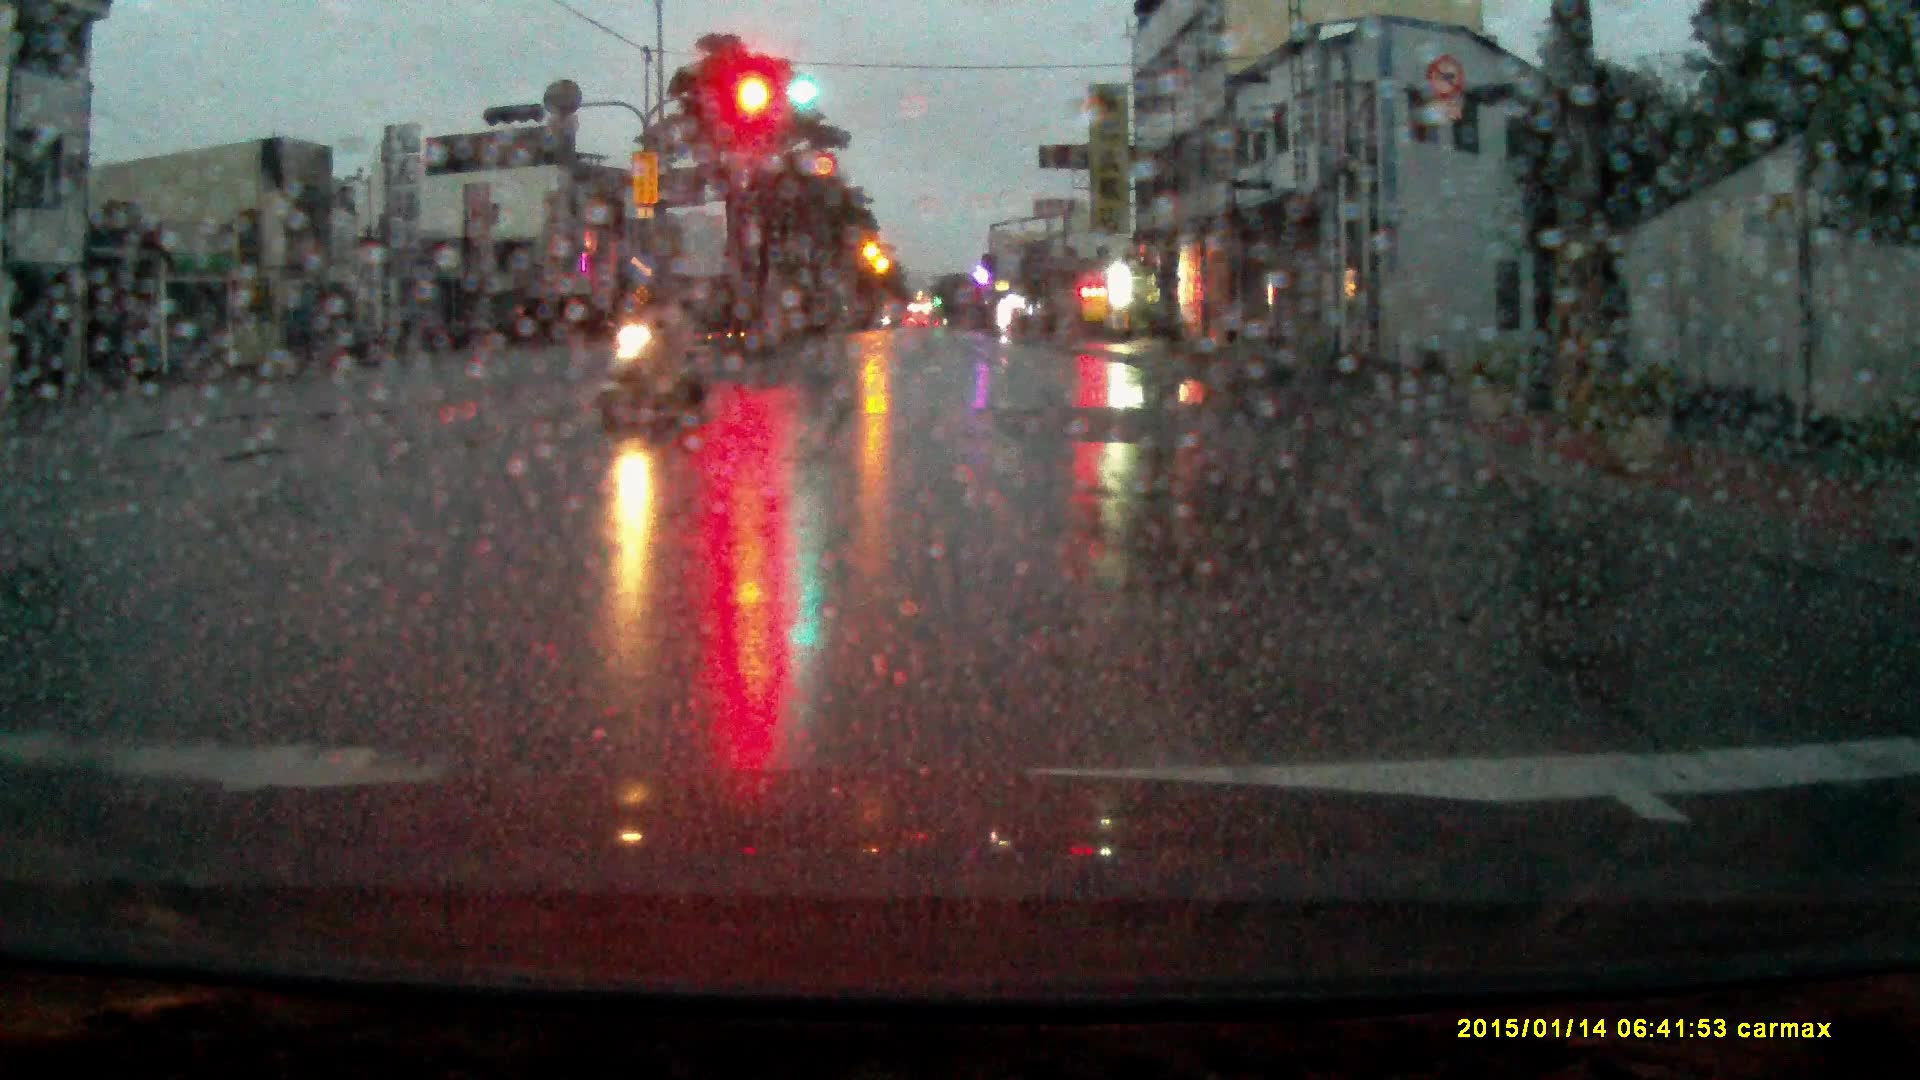rider: (596, 265, 715, 432)
